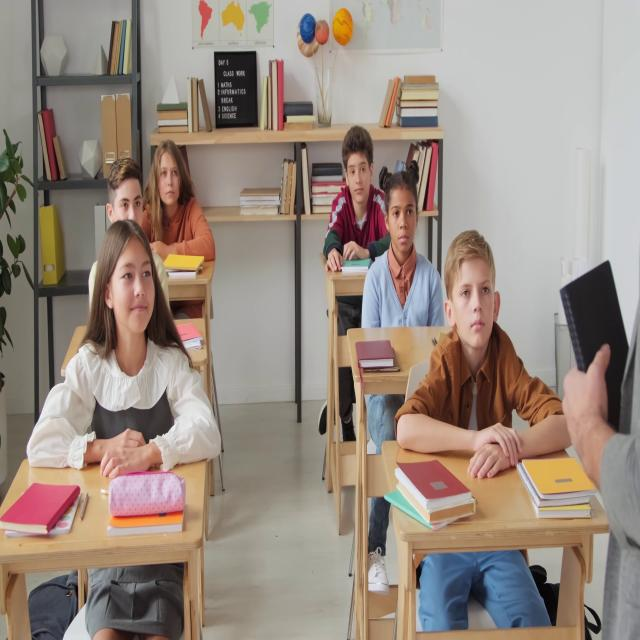listening: (394, 237, 568, 629), (26, 225, 223, 470), (361, 170, 444, 336), (144, 140, 217, 310), (89, 159, 170, 312), (325, 126, 384, 278)
